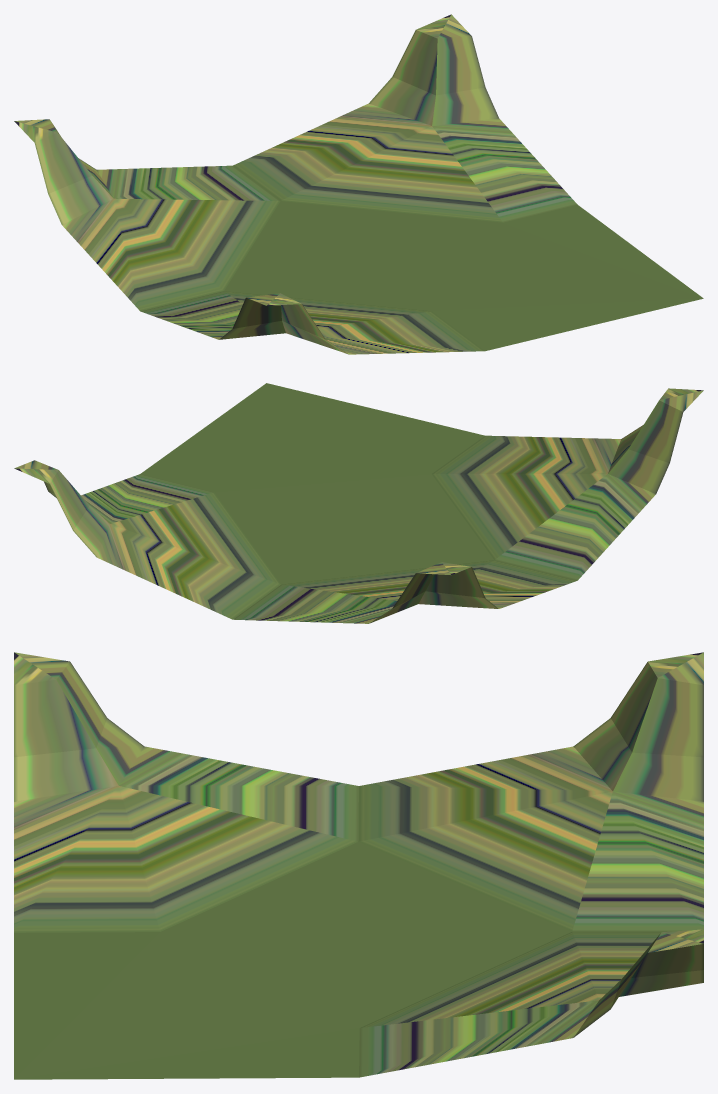
Rendered from Mesh_WaterTile3InsideCorners.fbx.
3 views of the same model, one above another, from view 1: azimuth 30°, elevation 25°; view 2: azimuth 150°, elevation 25°; view 3: azimuth 270°, elevation 25° (orthographic). The views are drawn at different scales.
Visible parts, largest first — view 1: WaterTile3InsideCorners; view 2: WaterTile3InsideCorners; view 3: WaterTile3InsideCorners.
Part boxes in pixels (<box>): WaterTile3InsideCorners: <box>14,14,703,354</box>; WaterTile3InsideCorners: <box>14,383,703,623</box>; WaterTile3InsideCorners: <box>14,652,703,1079</box>.
Bounding box in the file's own units: 10000 × 2173 × 10000.
